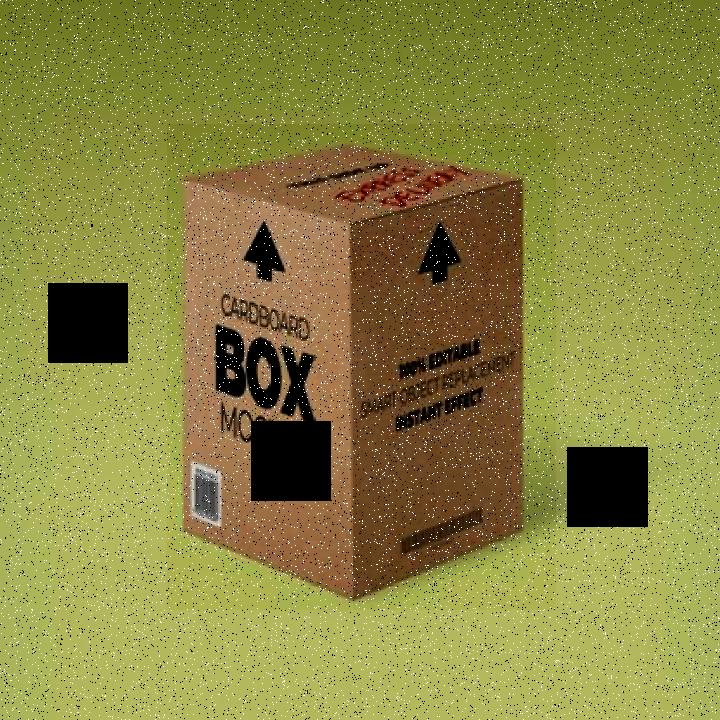box: (167, 124, 556, 610)
